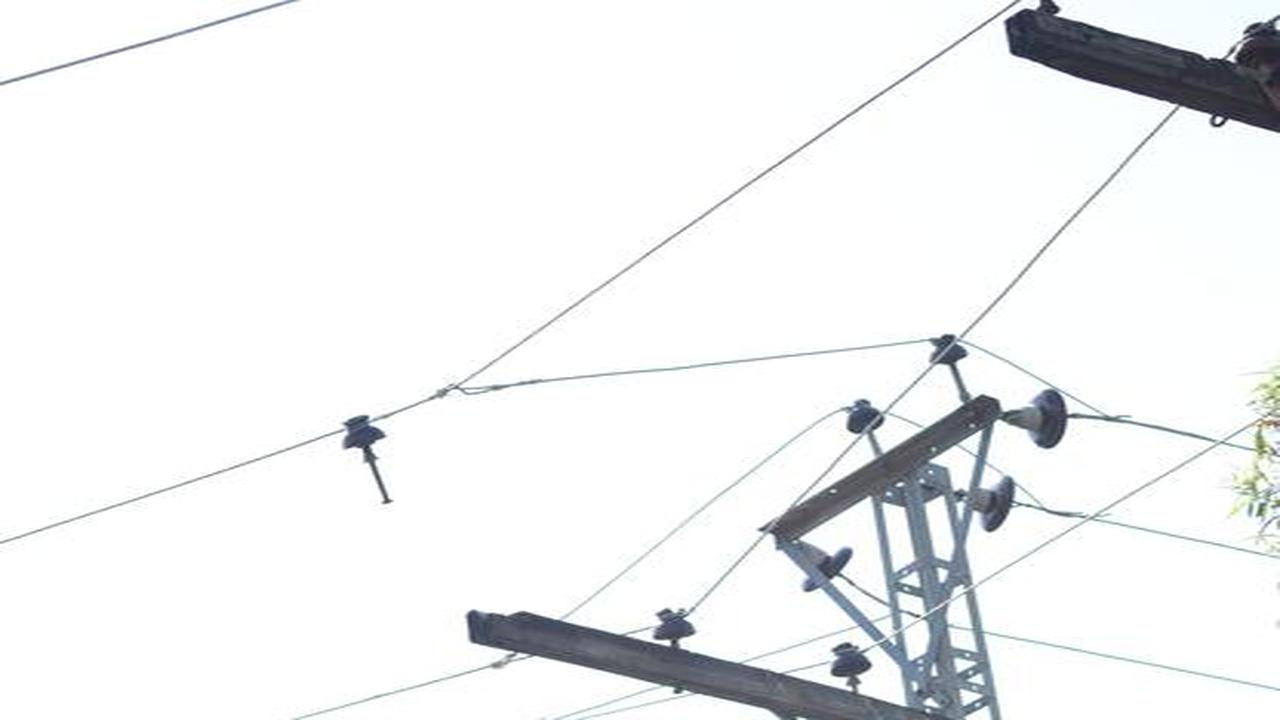insulator_disc: (1002, 374, 1072, 458), (957, 473, 1027, 542), (779, 545, 861, 599)
insulator_pin: (834, 390, 893, 447), (914, 327, 974, 378), (649, 595, 702, 649), (332, 409, 392, 456), (822, 642, 880, 686)
